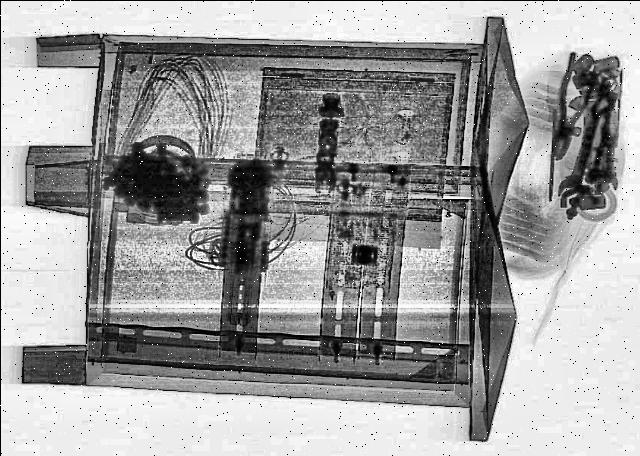Pliers: (544, 50, 602, 162)
